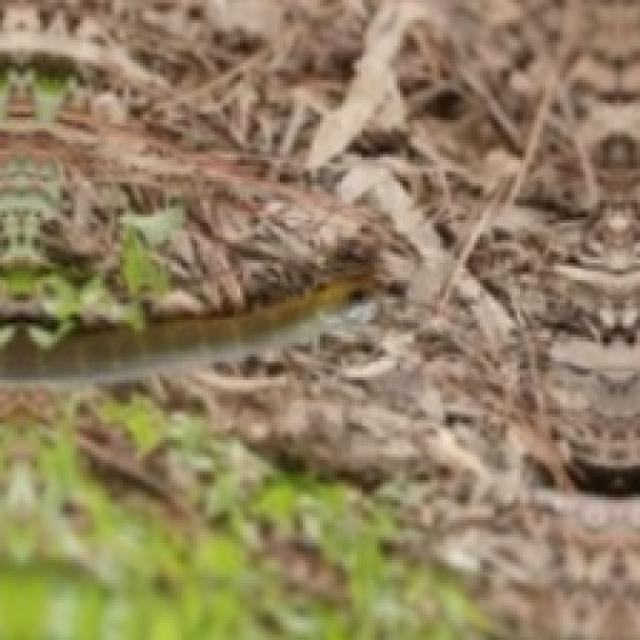gunthers philippine shrub snake: (0, 272, 404, 387)
